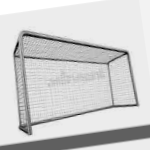goals: (11, 28, 140, 134)
